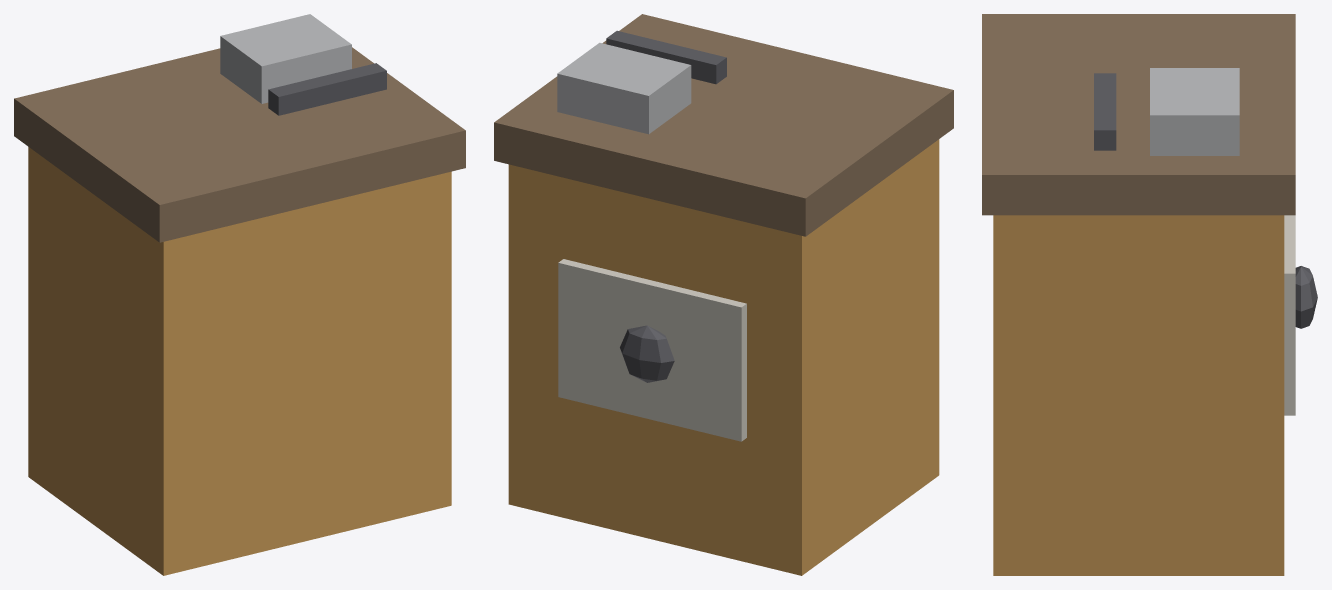
File: pets_porta_racao.glb
3 views of the same model, side by side, from view 1: azimuth 30°, elevation 25°; view 2: azimuth 150°, elevation 25°; view 3: azimuth 270°, elevation 25° (orthographic). The views are drawn at different scales.
Visible parts, largest first — view 1: PETS_PORTA_RACAO_v01; view 2: PETS_PORTA_RACAO_v01; view 3: PETS_PORTA_RACAO_v01.
Part boxes in pixels (bbox=[...]): PETS_PORTA_RACAO_v01: bbox=[14, 14, 465, 575]; PETS_PORTA_RACAO_v01: bbox=[494, 14, 953, 575]; PETS_PORTA_RACAO_v01: bbox=[982, 14, 1317, 575].
Size of the model in its own units: 0.34 by 0.44 by 0.3.
